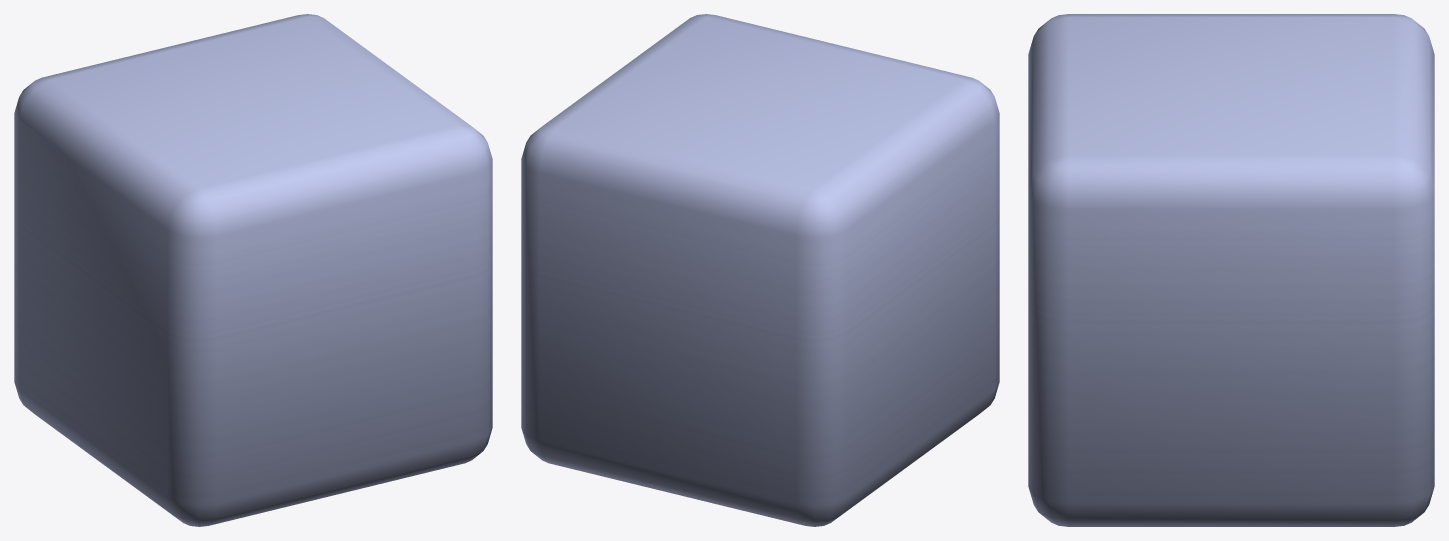
File: shape-cube-rounded.fbx
3 renders of one model, left to right at view 1: azimuth 30°, elevation 25°; view 2: azimuth 150°, elevation 25°; view 3: azimuth 270°, elevation 25°, orthographic. The views are drawn at different scales.
Parts seen in each view (by area): view 1: shape-cube-rounded; view 2: shape-cube-rounded; view 3: shape-cube-rounded.
Part boxes in pixels (<box>): shape-cube-rounded: <box>14,14,492,526</box>; shape-cube-rounded: <box>521,14,999,526</box>; shape-cube-rounded: <box>1028,14,1434,526</box>.
Size of the model in its own units: 100 by 100 by 100.
